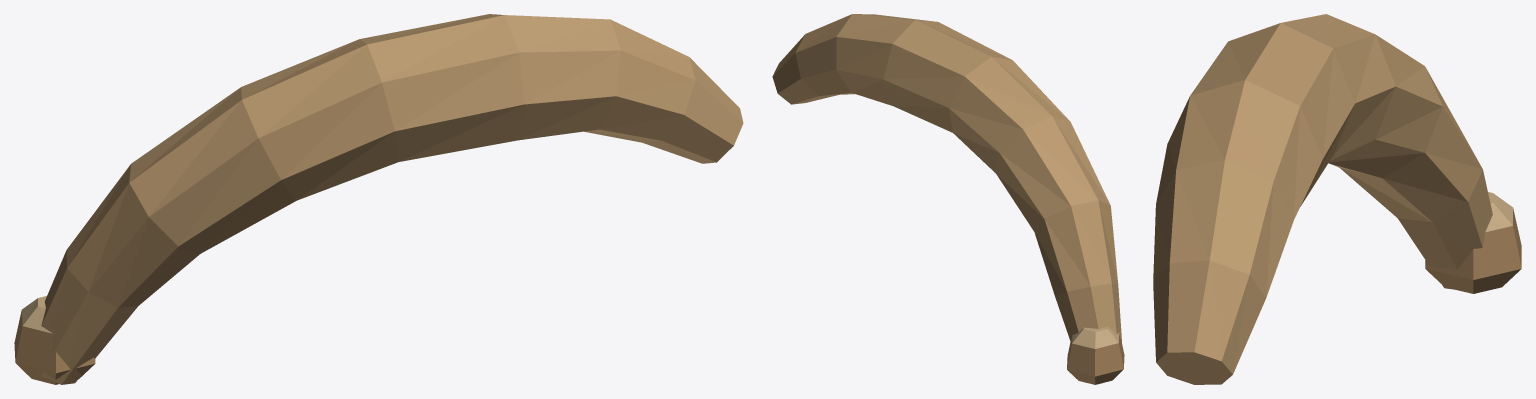
Rendered from canyon_17.glb.
3 views of the same model, side by side, from view 1: azimuth 30°, elevation 25°; view 2: azimuth 150°, elevation 25°; view 3: azimuth 270°, elevation 25° (orthographic). The views are drawn at different scales.
Parts seen in each view (by area): view 1: canyon_17; view 2: canyon_17; view 3: canyon_17.
Part boxes in pixels (x1=…): canyon_17: x1=14, y1=14, x2=743, y2=384; canyon_17: x1=772, y1=14, x2=1124, y2=384; canyon_17: x1=1153, y1=14, x2=1521, y2=384.
Bounding box in the file's own units: 2 × 1.1 × 0.9057.
